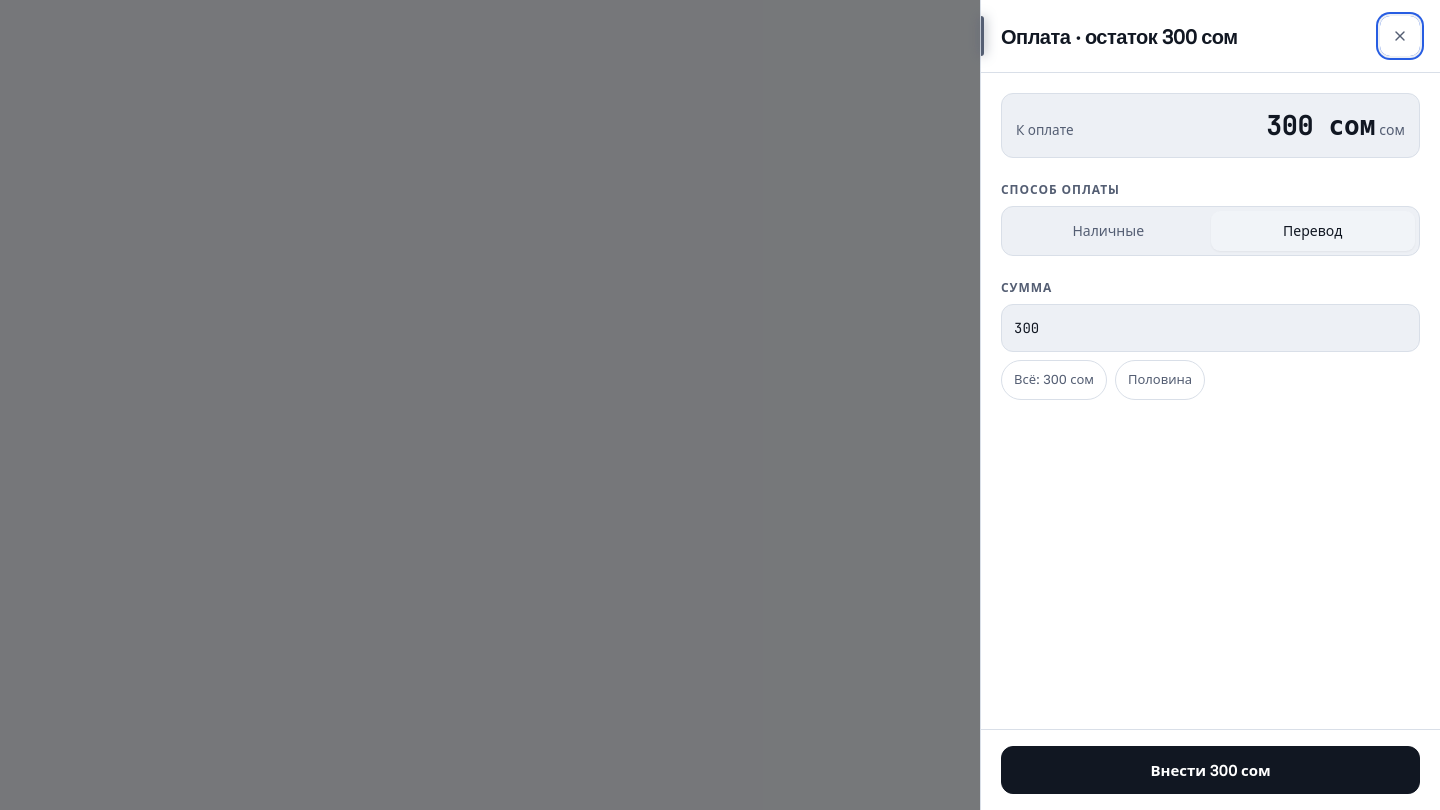
Test case: an amount larger than the balance (a typo such as 5000 instead of 500) › is not recorded on the first tap: the operator is told by how much it exceeds the balance
This screenshot has width=1440, height=810.
Replace the text in the number field labelled "Сумма" with "5000": point(1210, 328) [1001,304,1420,352]
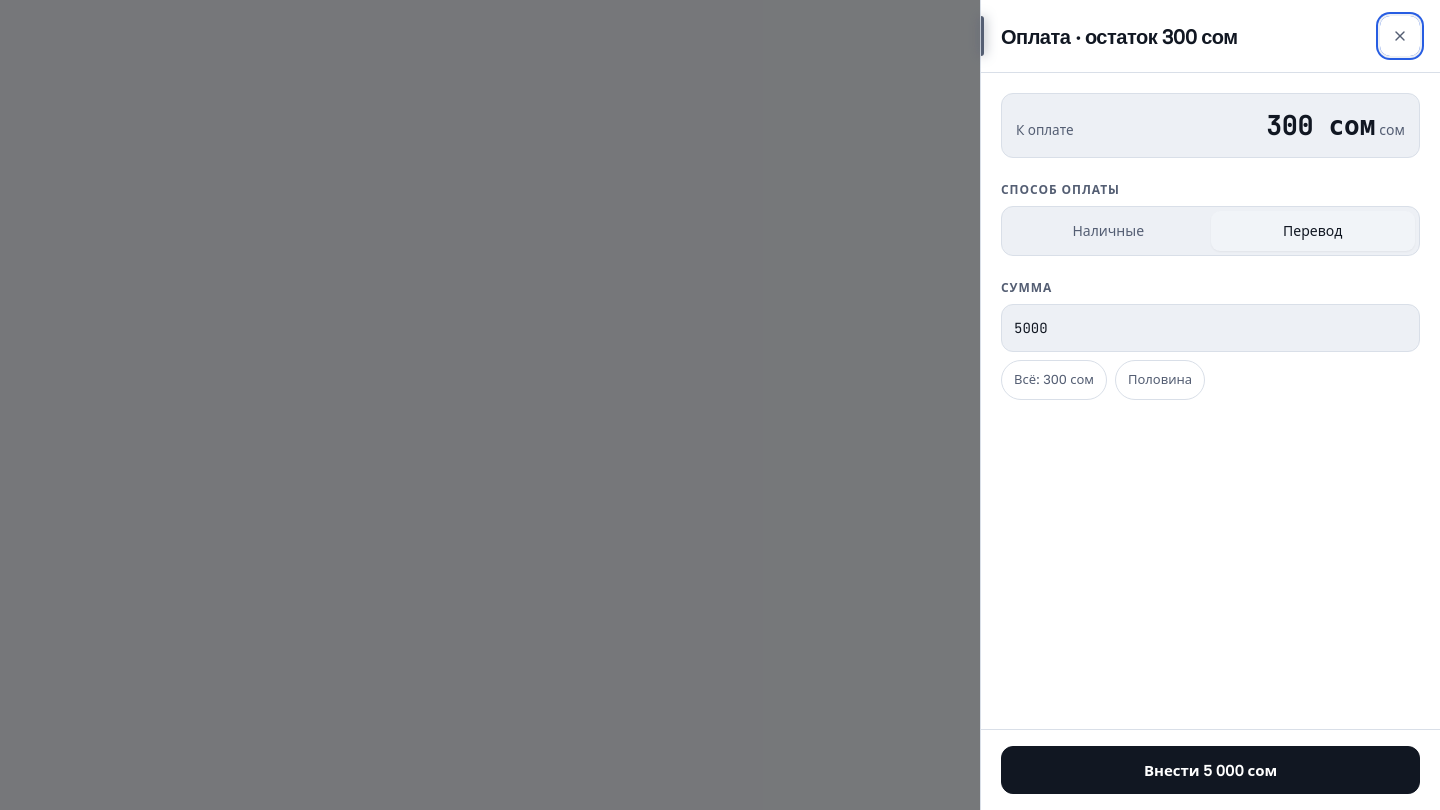
Click the button "Внести 5 000 сом": point(1210, 770) [1001,746,1420,794]
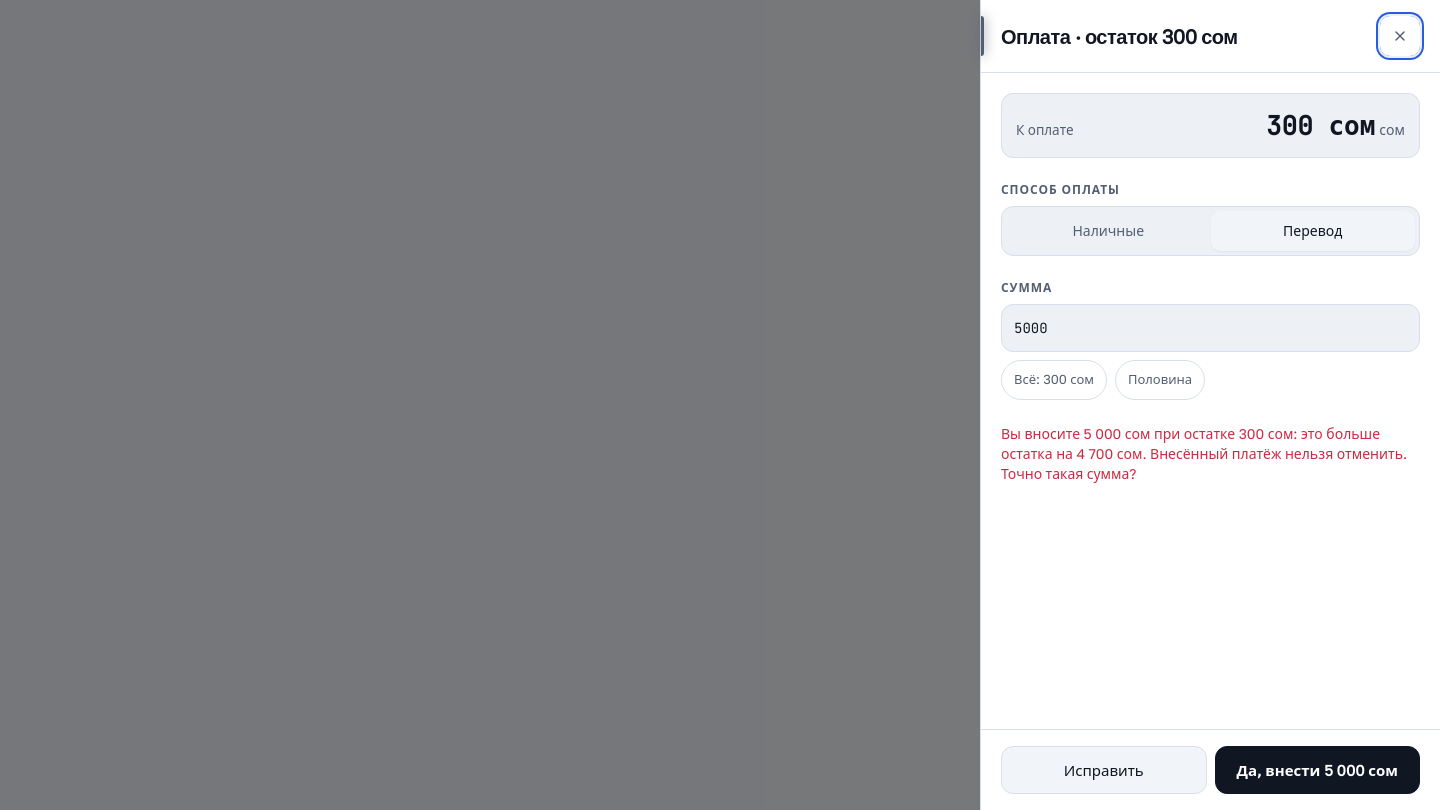
Now the message shows "больше остатка", box [1001,425,1380,462]
